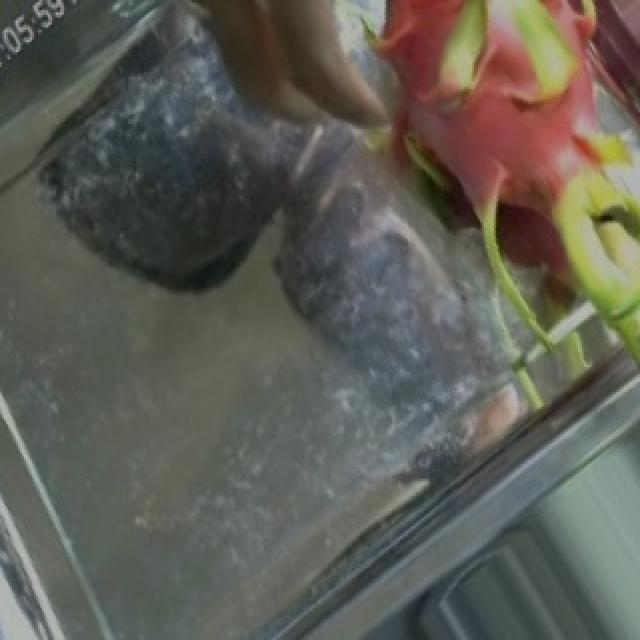fruit: (262, 0, 640, 419)
